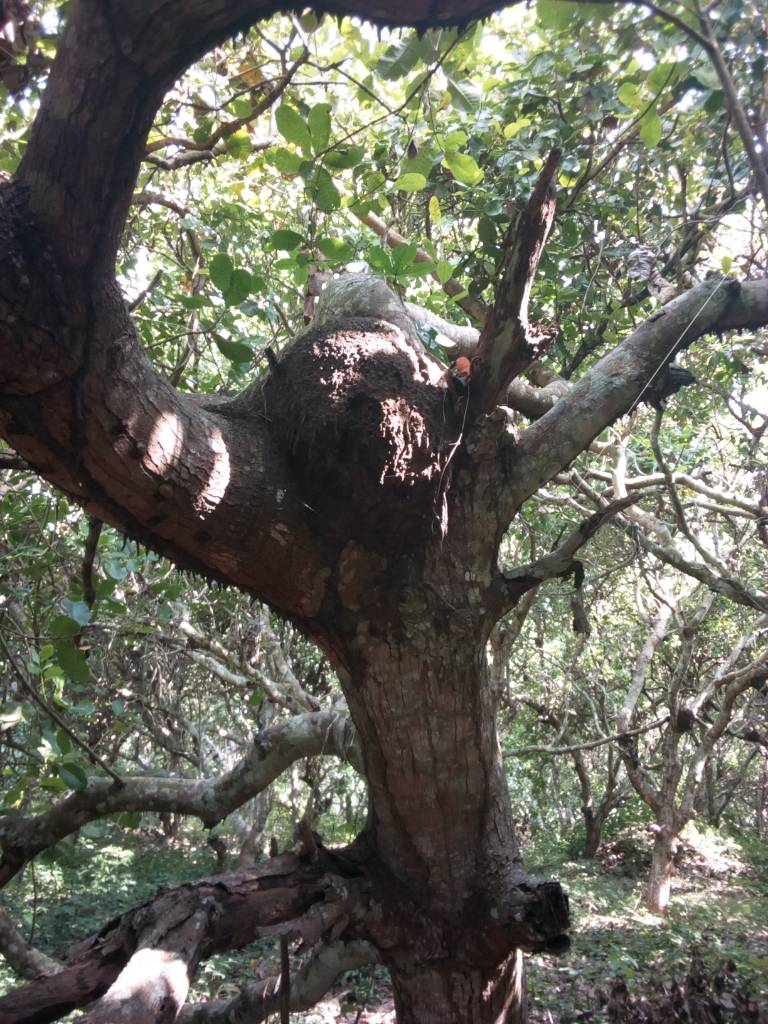Termites: (283, 310, 460, 542)
